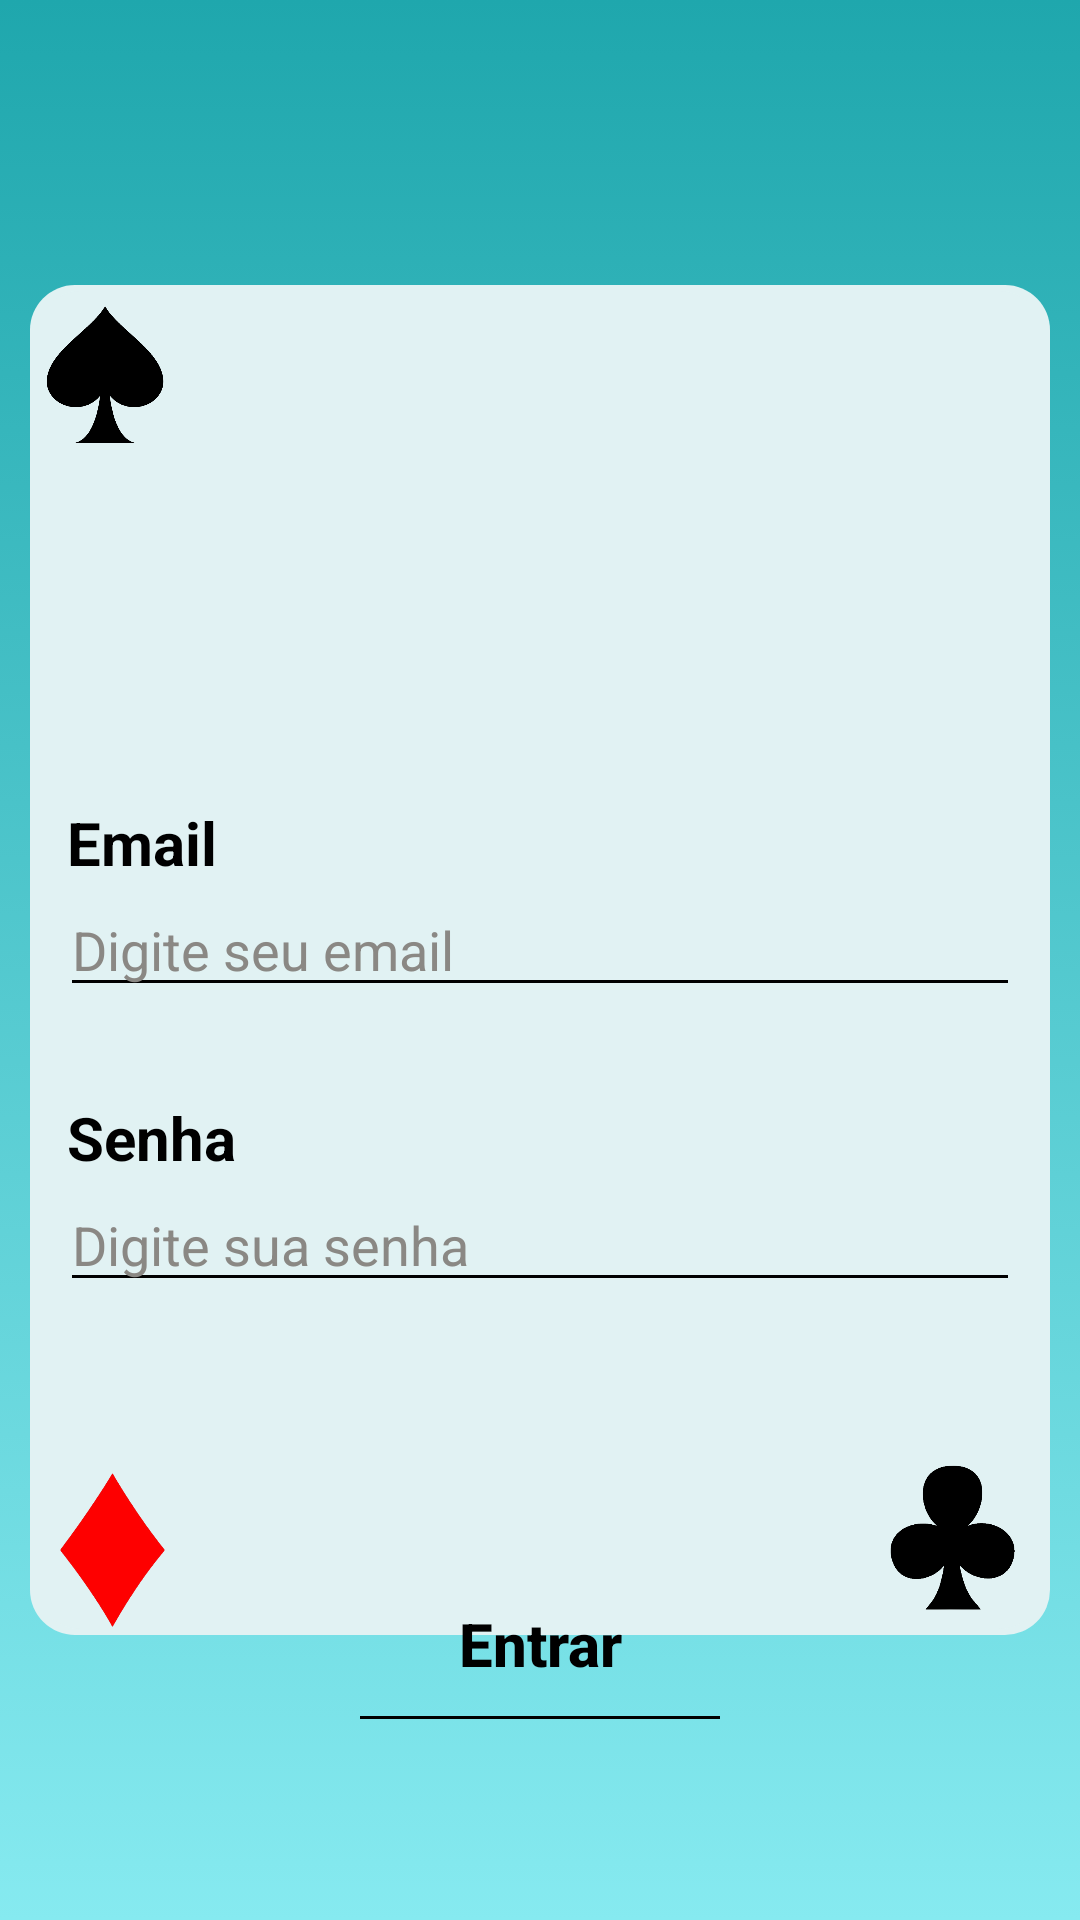

Icons on this 1080px x 1920px Android screen, each with the point to tap as (x=x, y=y):
clubs: (x=952, y=1537)
diamonds: (x=112, y=1552)
spades: (x=105, y=375)
